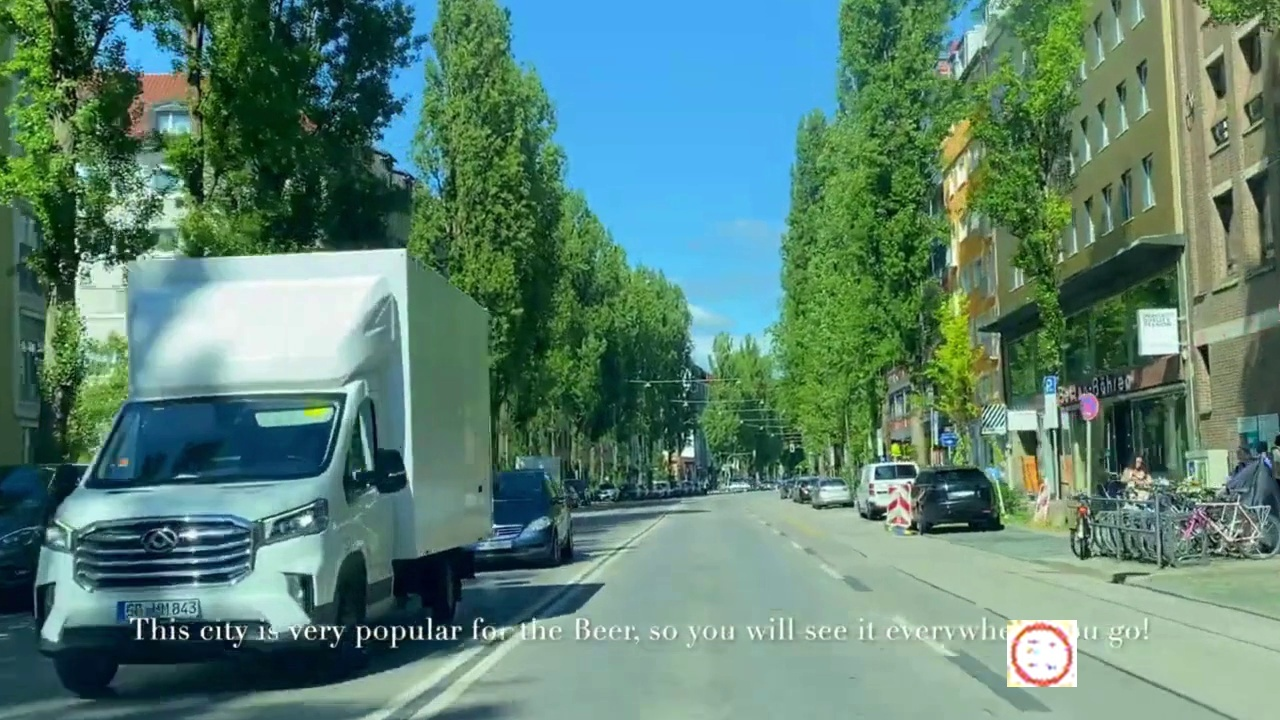Speed 50: (1007, 620, 1077, 687)
